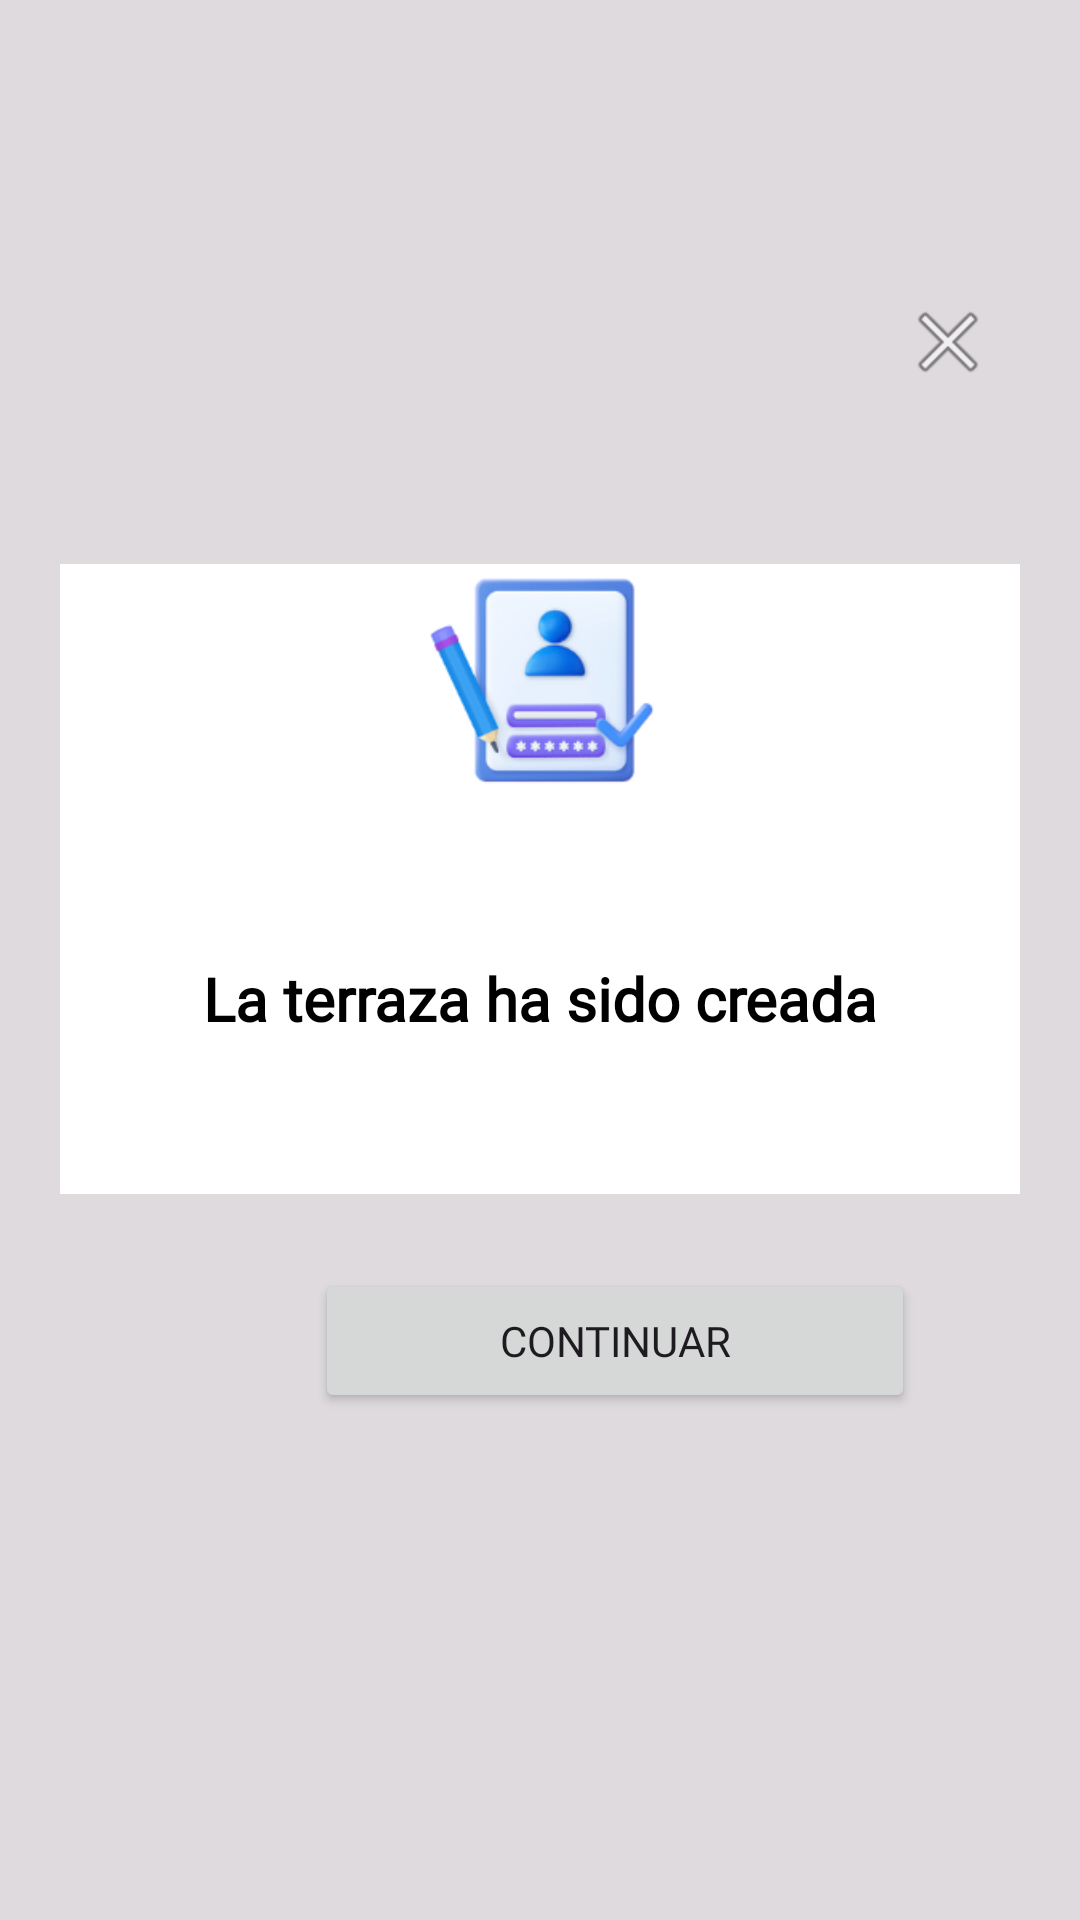

Where icons sit on this 1080w x 1920h app screen, as (x1, y1, x2, y2):
Cerrar: (918, 312, 978, 372)
registro exitoso: (431, 578, 653, 782)
